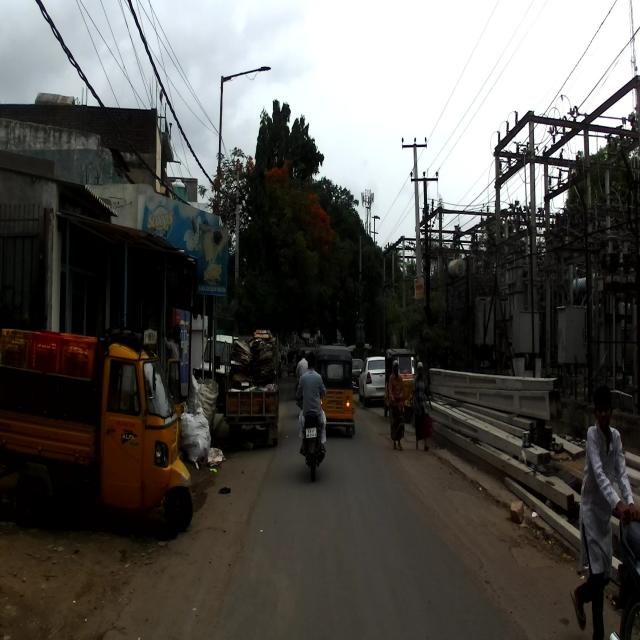autorickshaw: (0, 320, 194, 536), (311, 345, 357, 439)
motorcycle: (294, 388, 326, 482)
truck: (226, 328, 280, 450)
